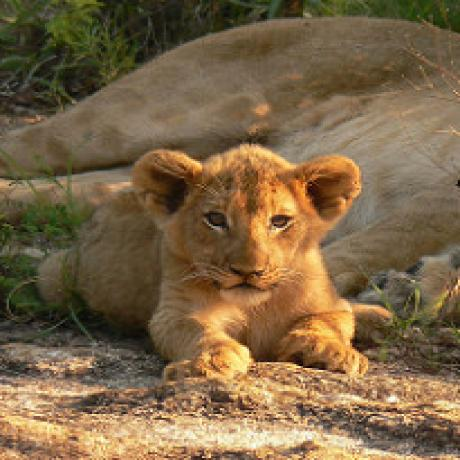Lion: (45, 144, 368, 391)
